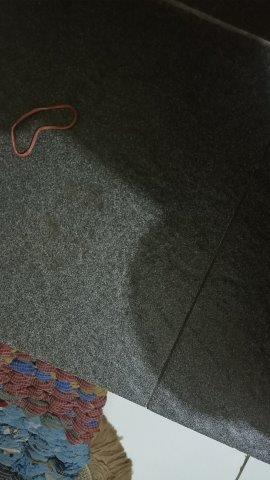karet: (10, 104, 78, 157)
